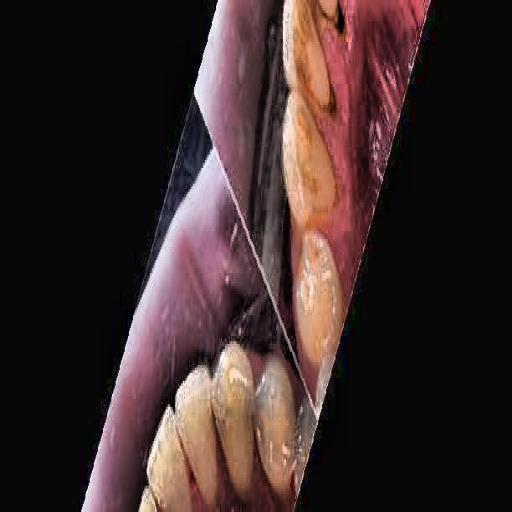Calculus: (296, 2, 354, 324)
